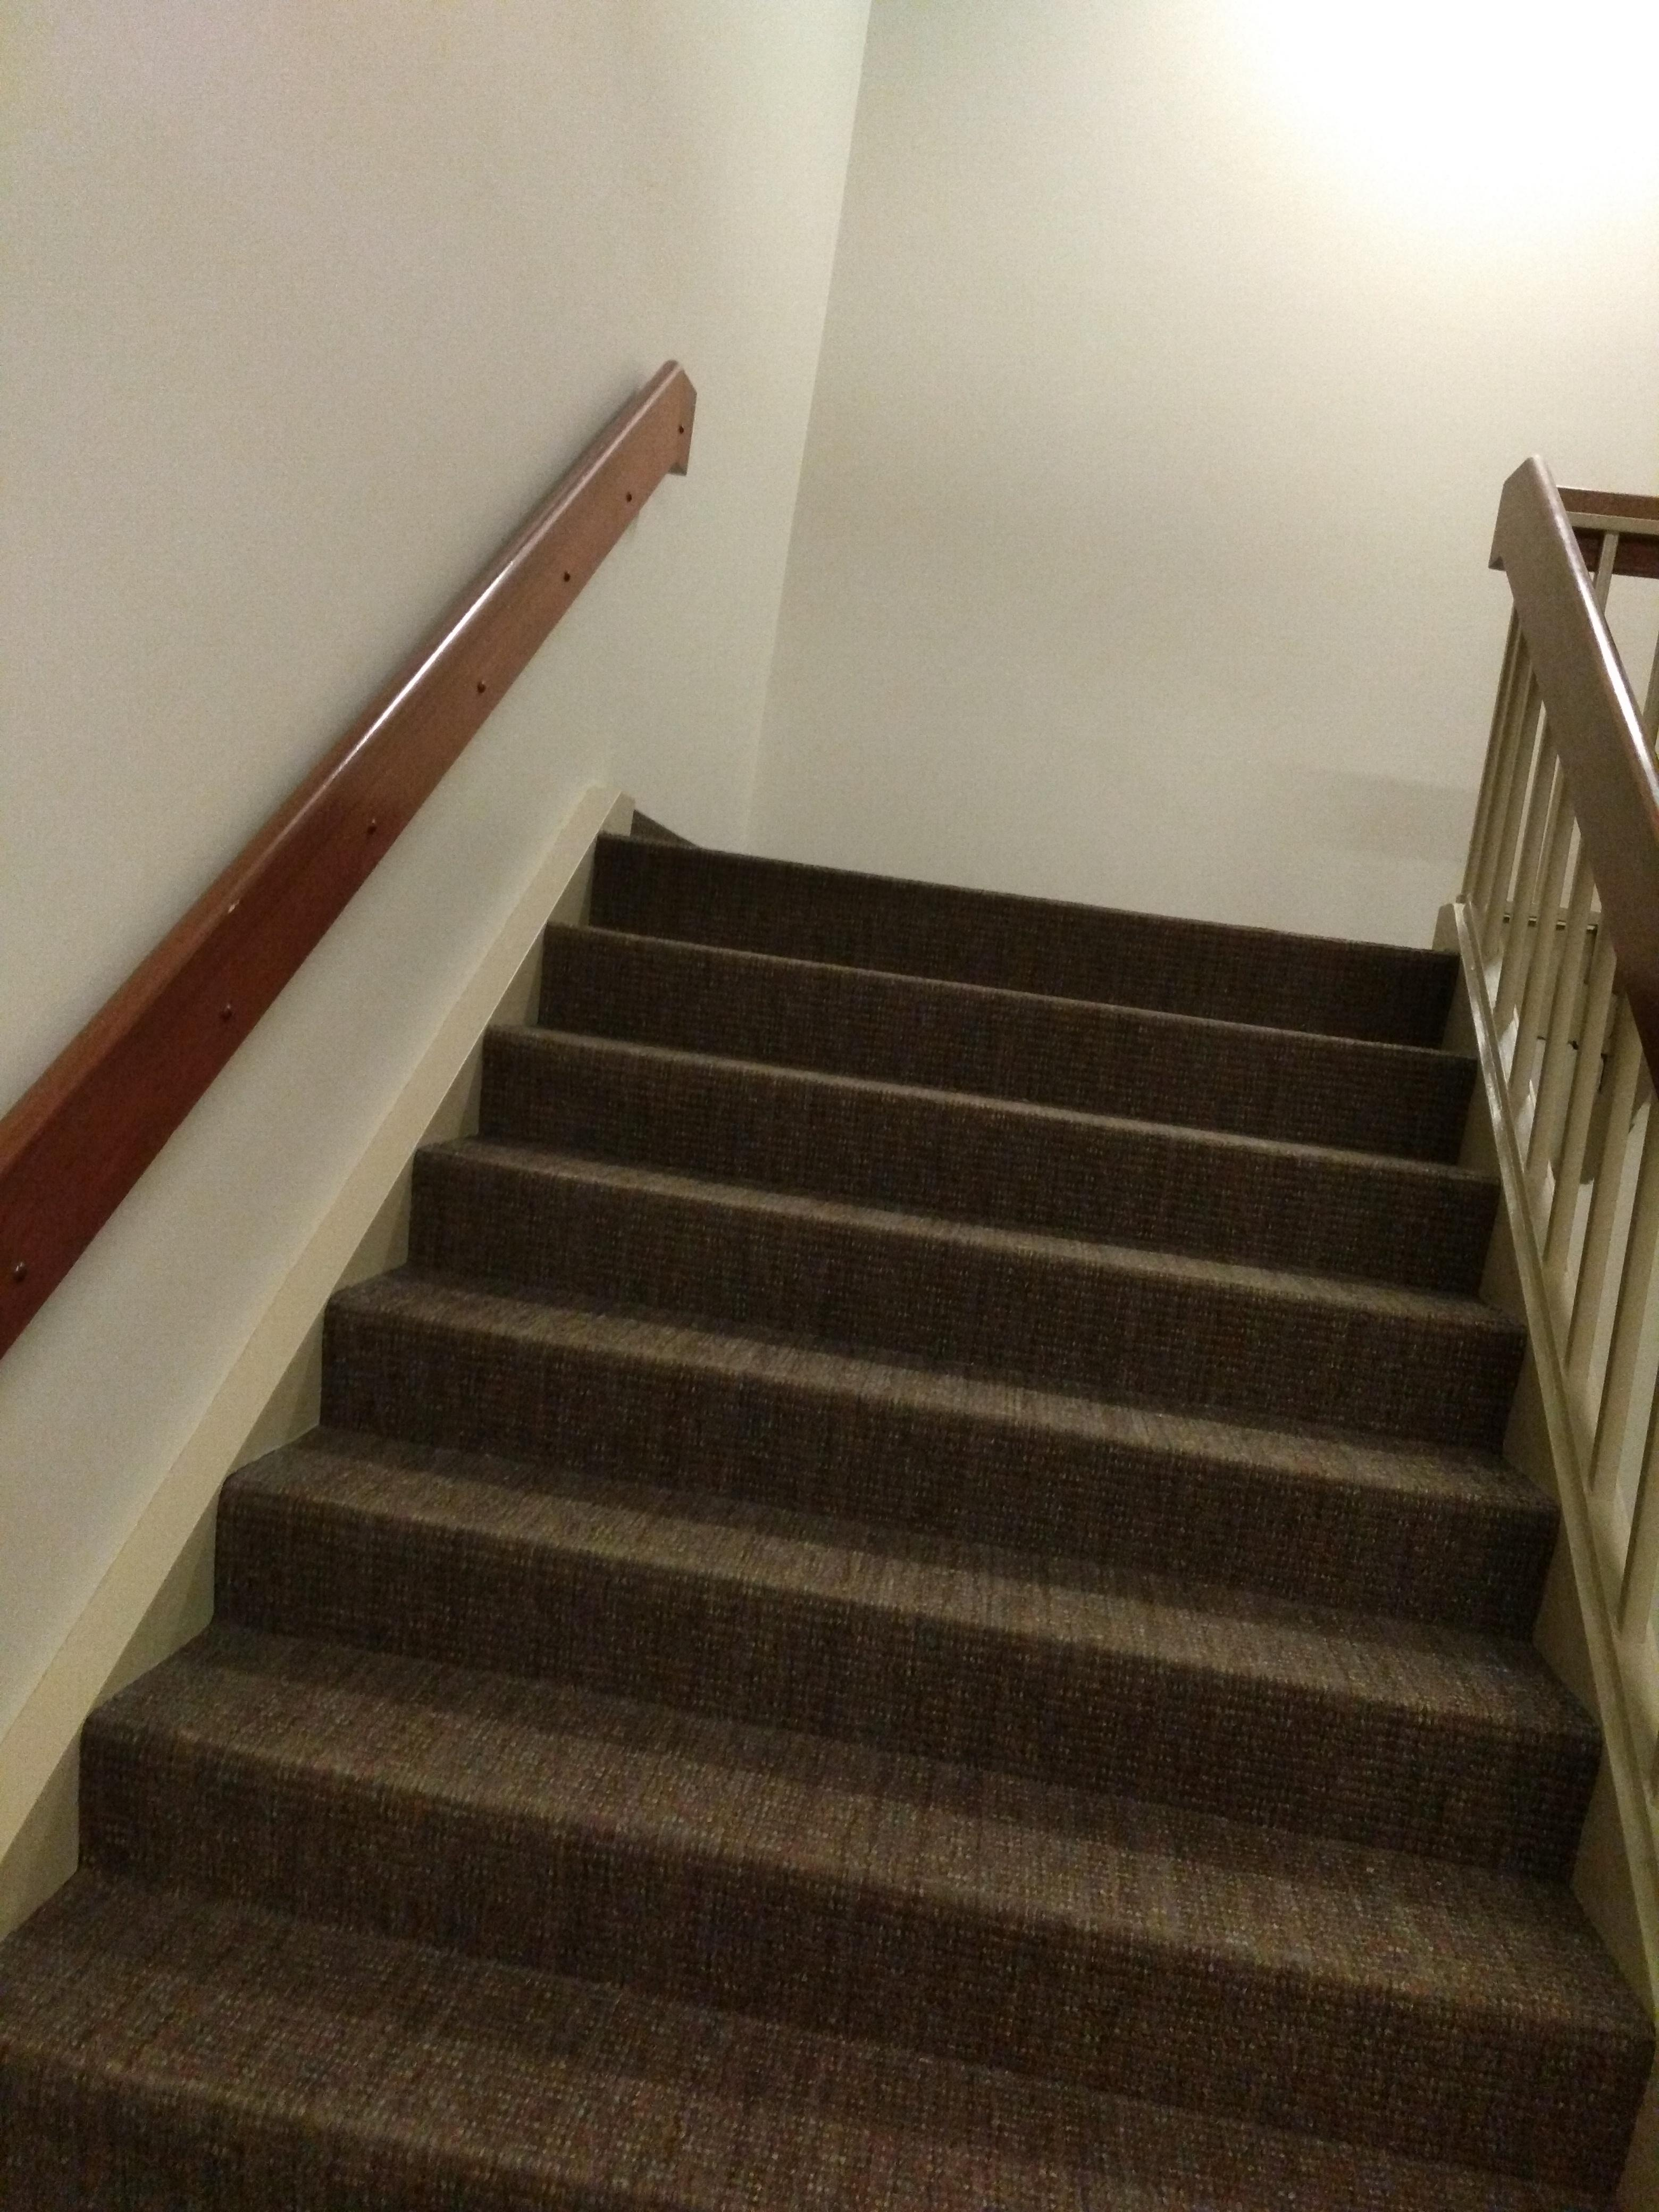stairs_up: (44, 805, 1659, 2177)
